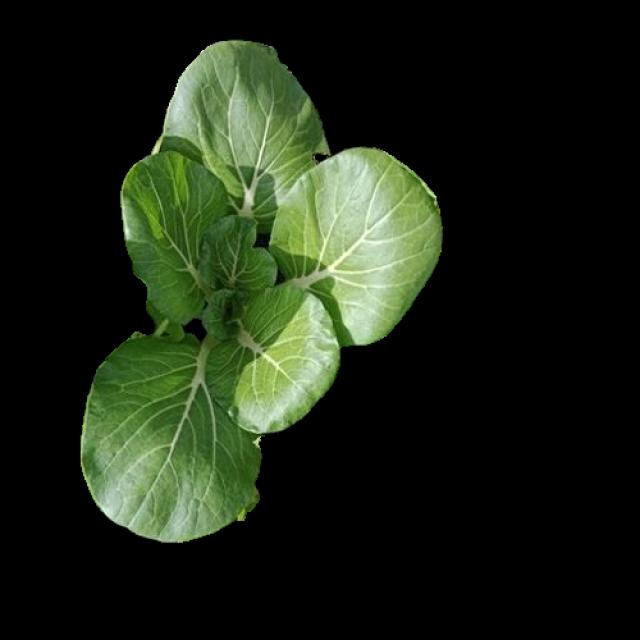healthy: (83, 54, 437, 550)
mature: (84, 45, 438, 541)
